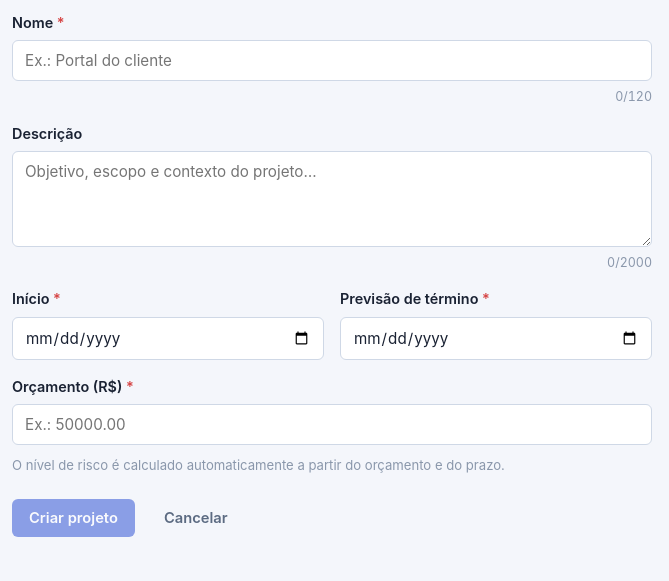
Scenario: ProjectForm › rejeita orçamento não positivo em tempo real
Type "Portal" into the field labelled "Nome *" at (332, 61), box [12,40,652,81]
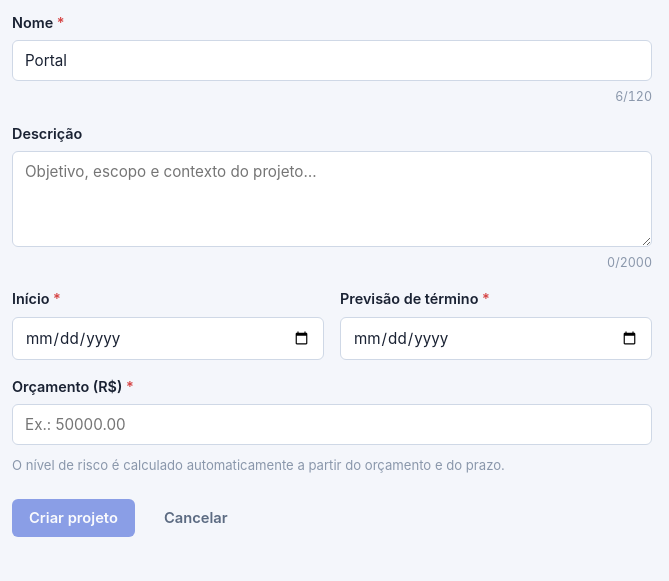
Type "2026-01-01" into the date field labelled "Início *" at (168, 338), box [12,317,324,360]
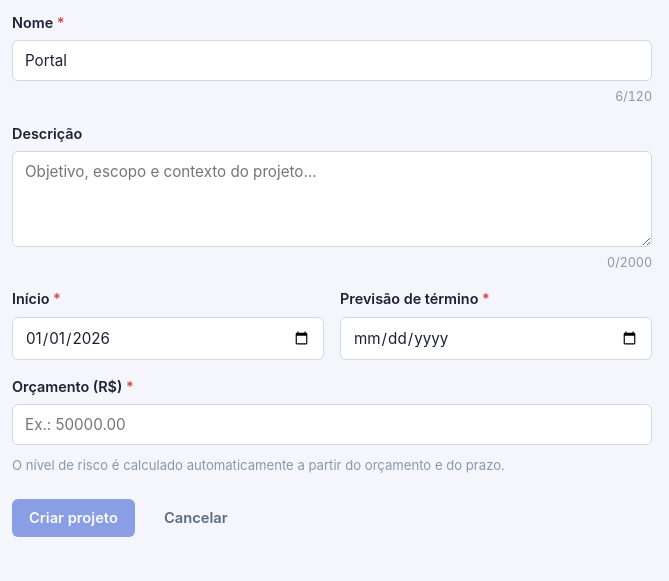
Type "2026-06-01" into the date field labelled "Previsão de término *" at (496, 338), box [340,317,652,360]
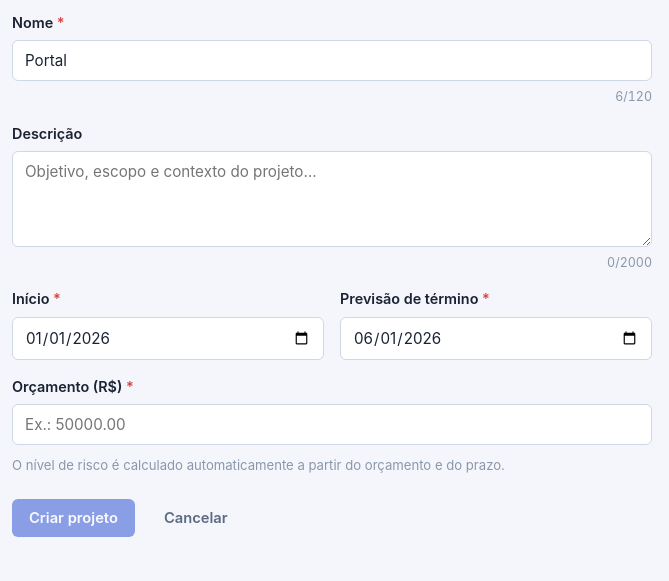
Type "15000.50" into the number field labelled "Orçamento (R$) *" at (332, 424), box [12,404,652,445]
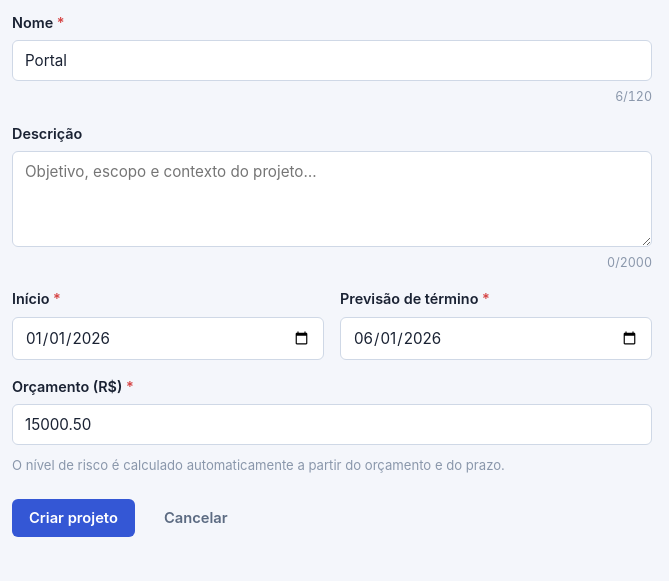
Replace the text in the number field labelled "Orçamento (R$) *" with "-5" at (332, 424), box [12,404,652,445]
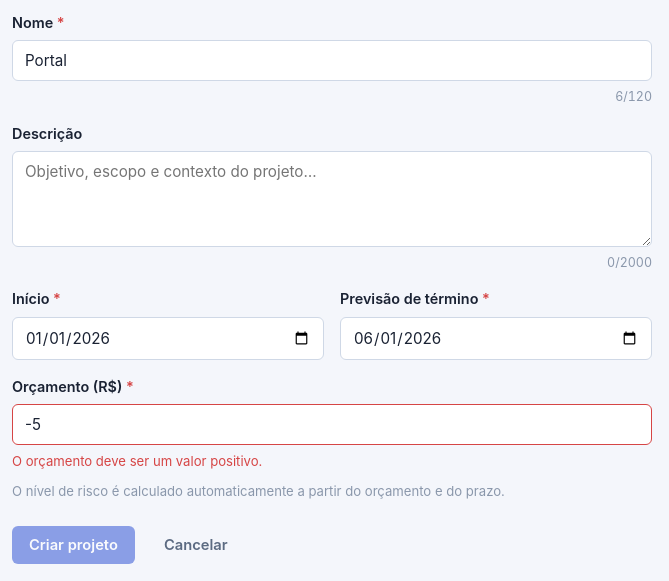
Expected: the text "O orçamento deve ser um valor positivo." is shown, [12,453,262,469]
Expected: the button "Criar projeto" is disabled, [12,526,135,564]
